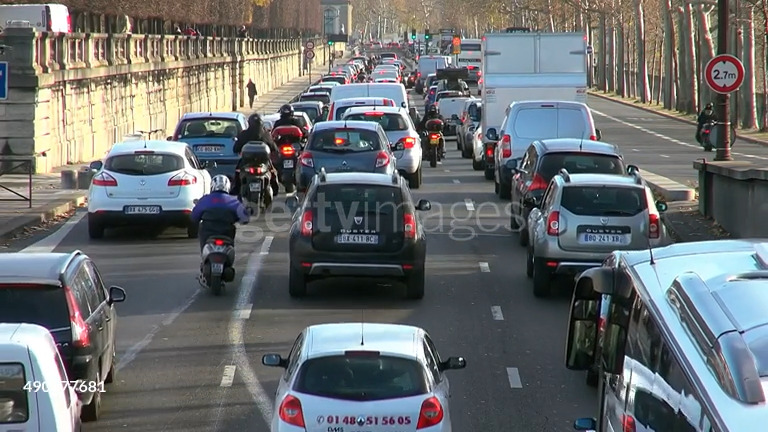car_number: (580, 233, 628, 244), (336, 234, 378, 244), (124, 205, 160, 214), (195, 146, 222, 152)
